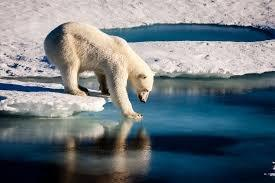bear: (43, 13, 157, 130)
